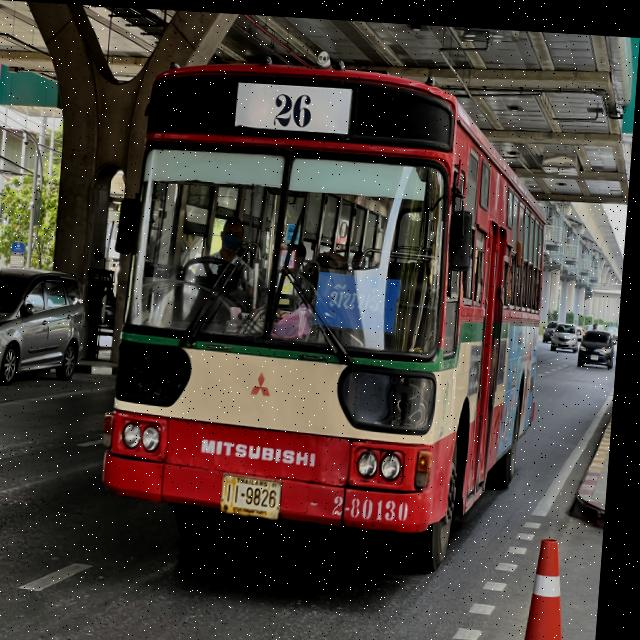BMTA-bus: (104, 56, 561, 572)
Bus-Line-Number: (235, 79, 356, 134)
Destination-Sign-Normal: (317, 266, 405, 331)
